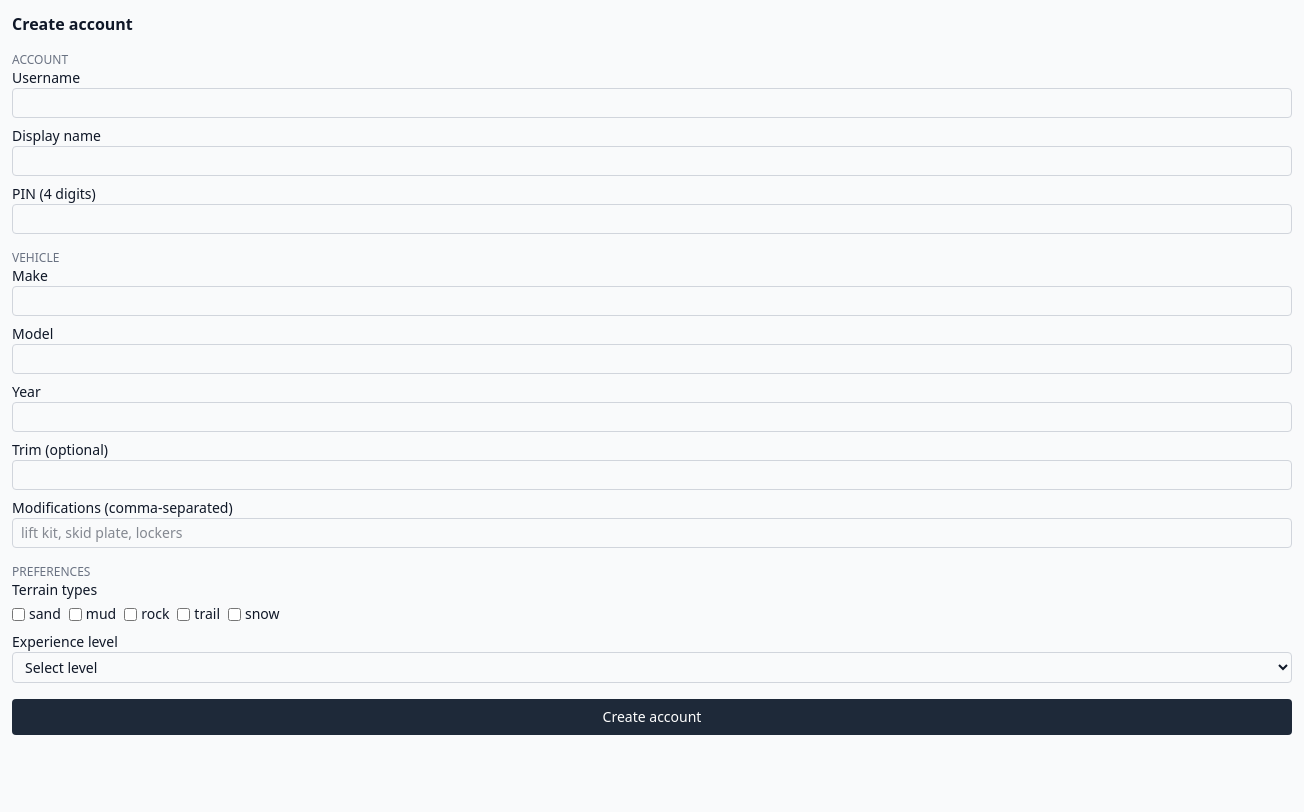
Scenario: RegisterForm › username availability check › shows "checking" status when user starts typing
The image size is (1304, 812).
Type "abc" into the field labelled "Username" at (652, 103), box [12,88,1292,118]
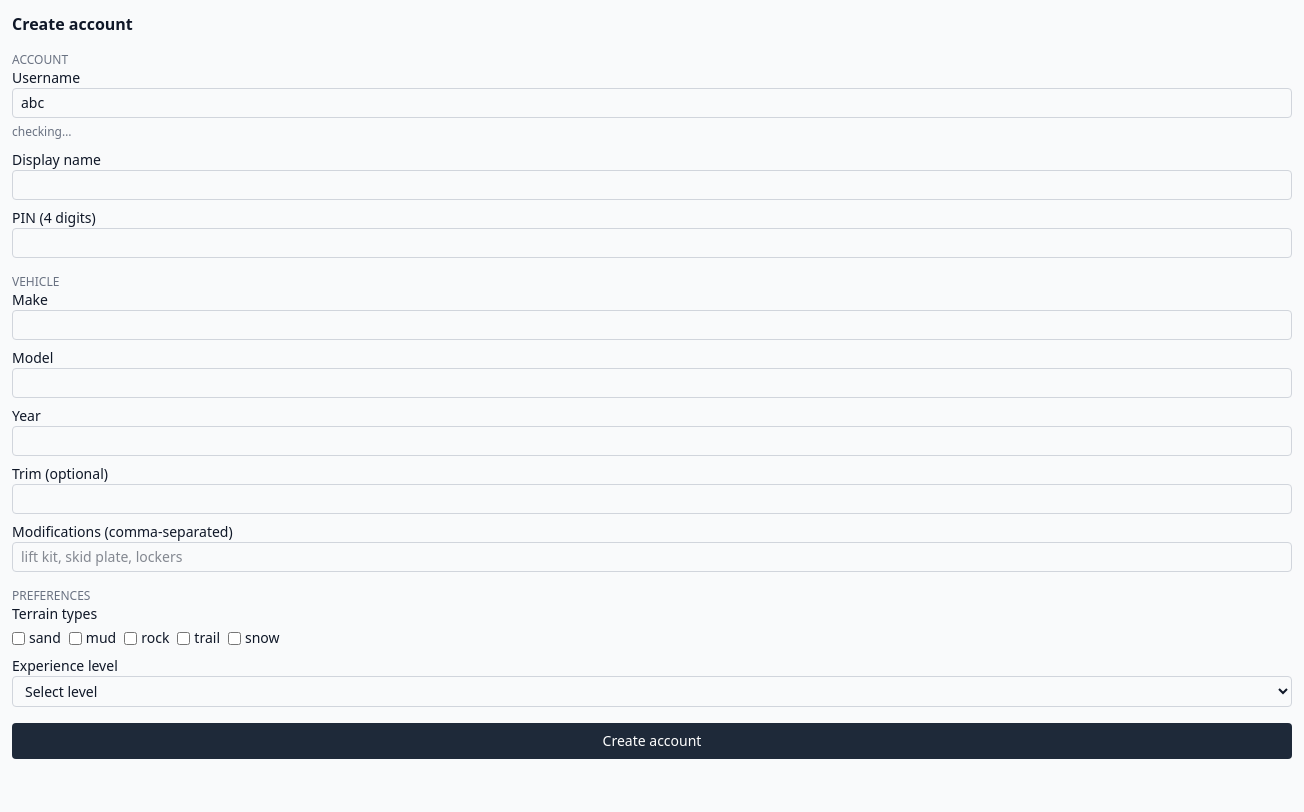
Now the text "checking…" is shown, box [12,123,72,140]
